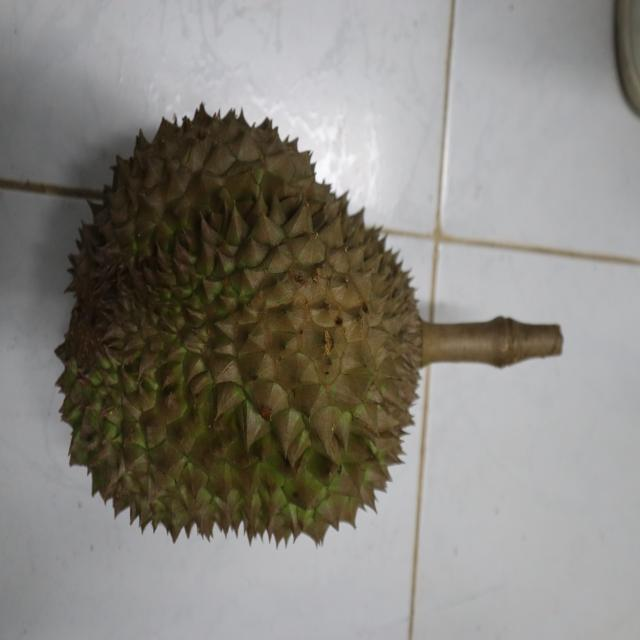mature: (52, 97, 427, 551)
